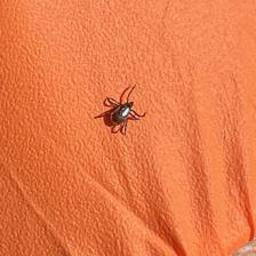Ixodes scapularis: (95, 87, 147, 135)
